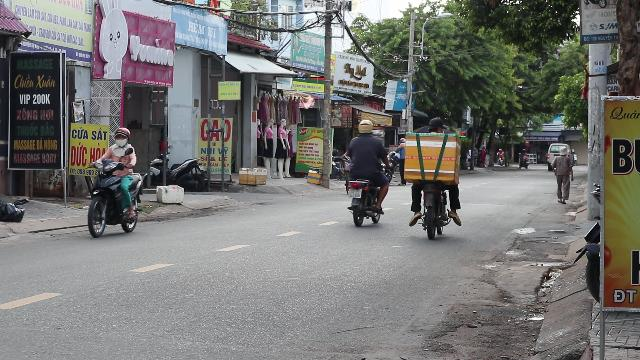helmet: (112, 126, 130, 146), (357, 120, 373, 134)
licenseplate: (349, 189, 361, 197)
motorcyclist: (402, 115, 464, 238), (84, 126, 144, 238), (342, 120, 390, 226)
nohelmet: (427, 117, 443, 133)
